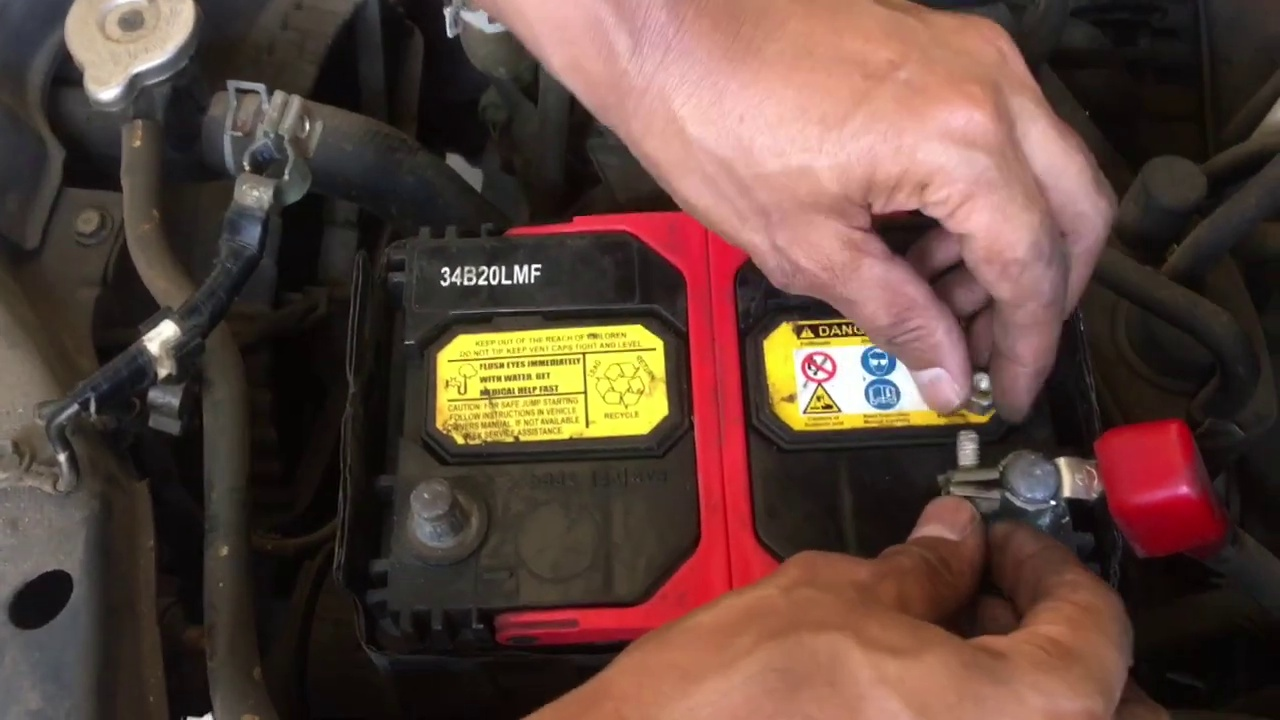battery: (373, 229, 1069, 623)
neg_disconnected: (362, 452, 513, 578)
pos_connected: (899, 386, 1182, 529)
pos_touched: (887, 237, 1165, 675)
